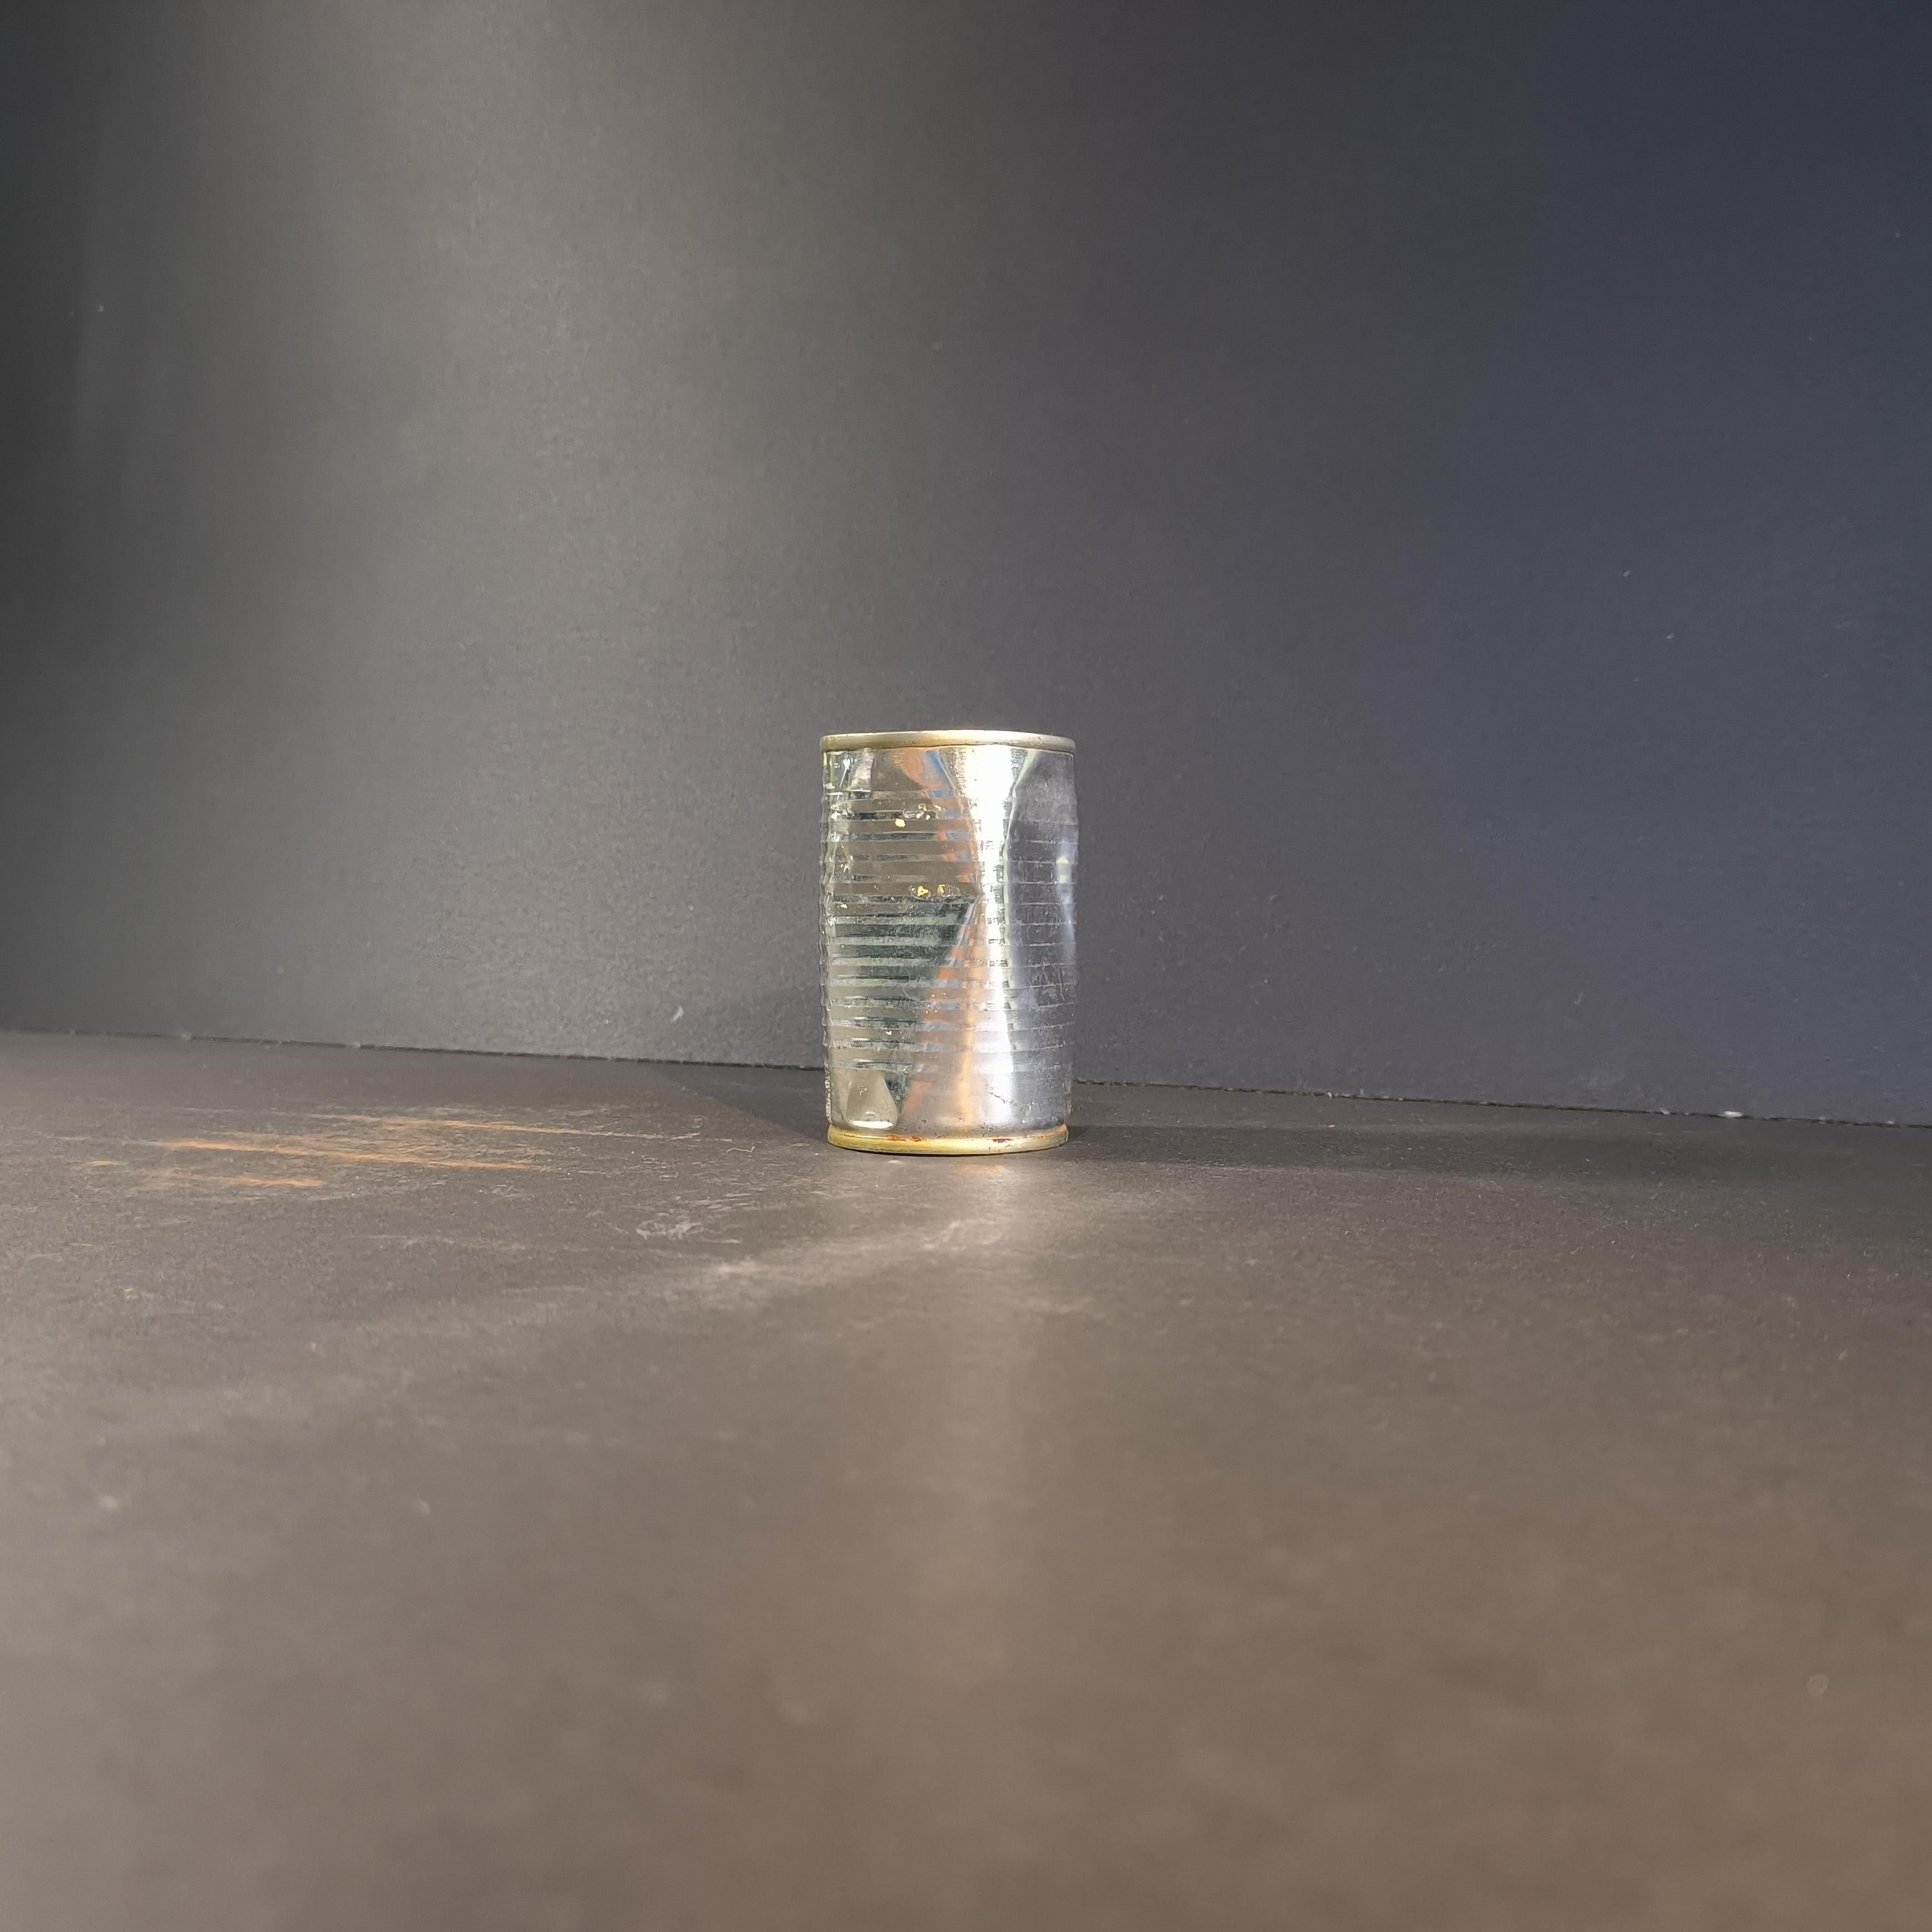Dented: (793, 704, 1113, 1187)
